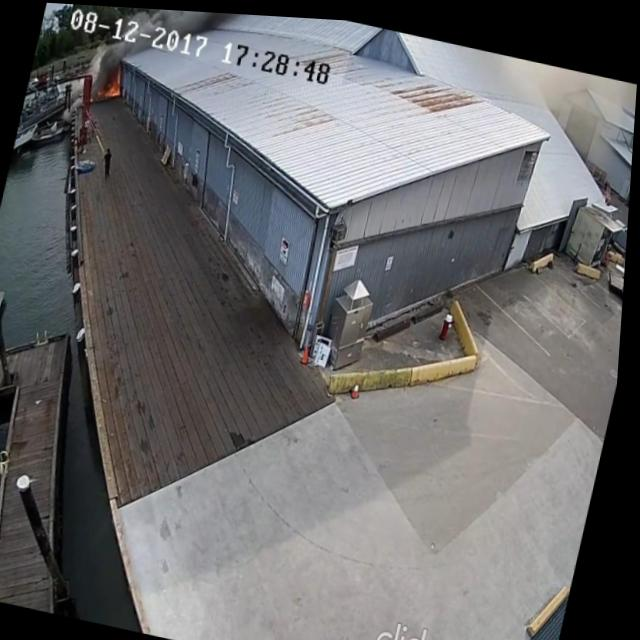fire: (99, 78, 127, 101)
